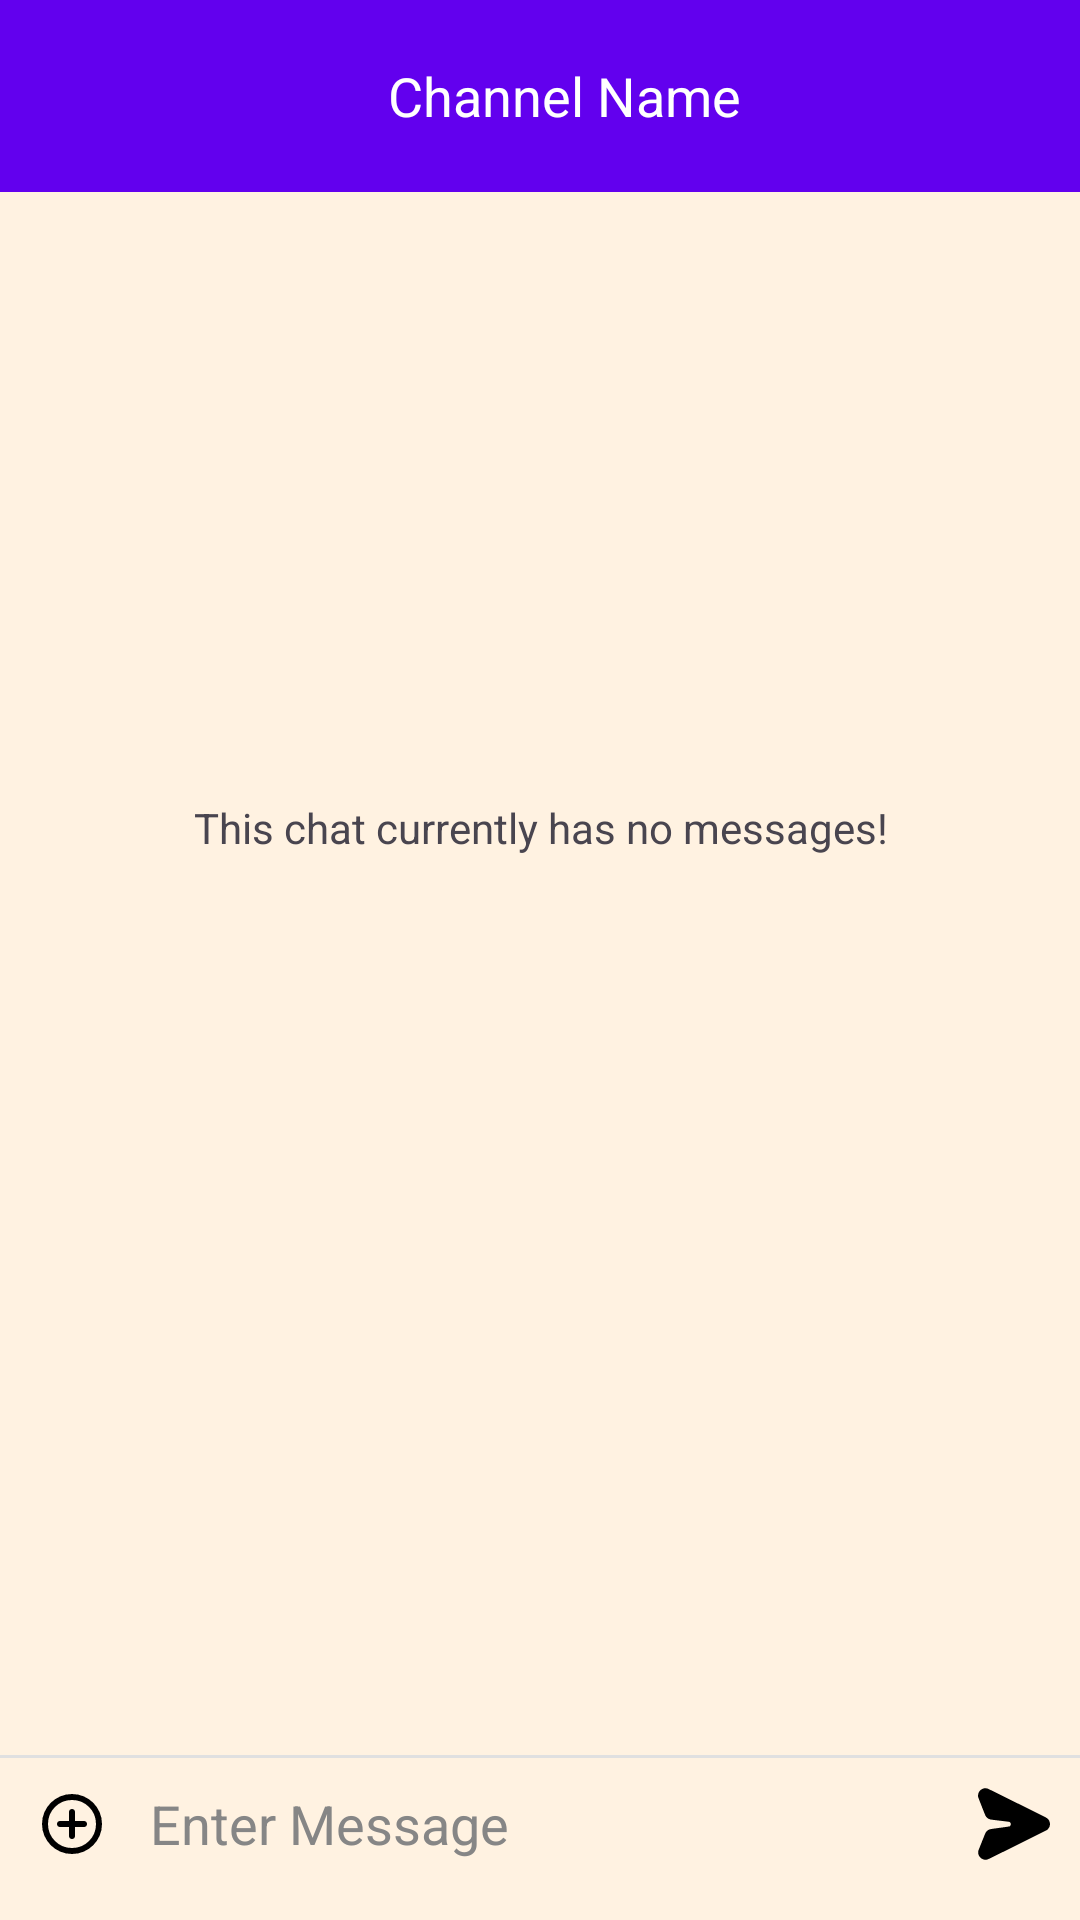

Icon click points for this 1080px x 1920px phone screenshot, format (x,y):
add circle: (72,1824)
send: (1014,1824)
